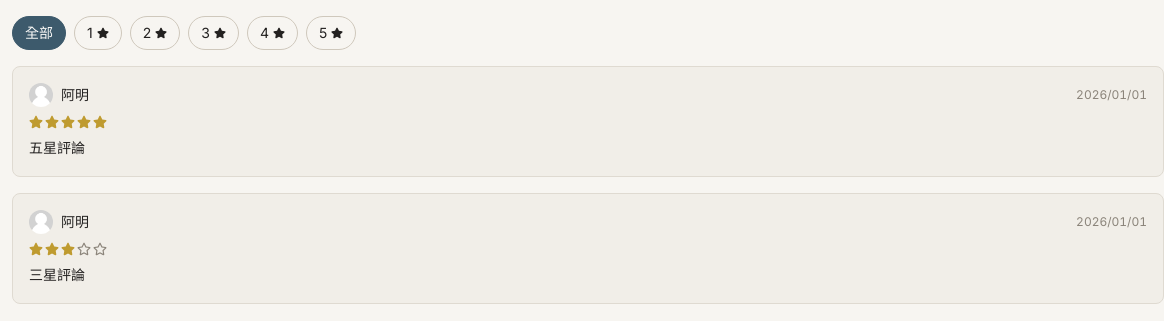
it: CommentList 星等篩選 › 點「全部」回到未篩選狀態
Click the button "5" at (331,33), box x1=306 y1=16 x2=356 y2=50
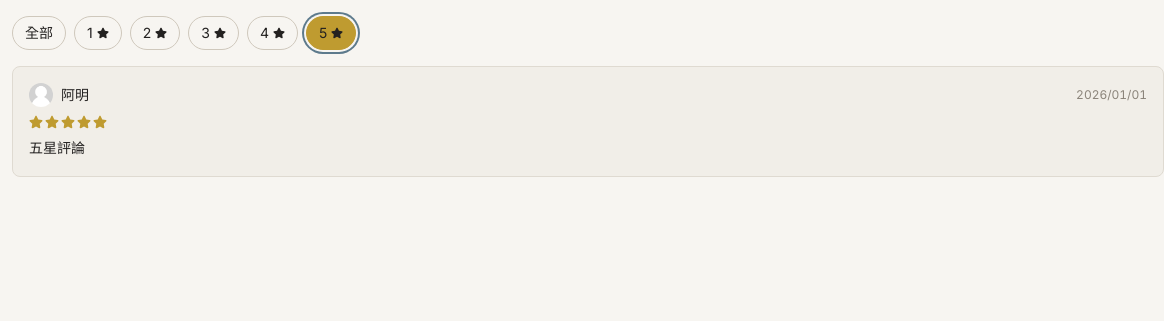
Click the button "全部" at (39,33), box x1=12 y1=16 x2=66 y2=50
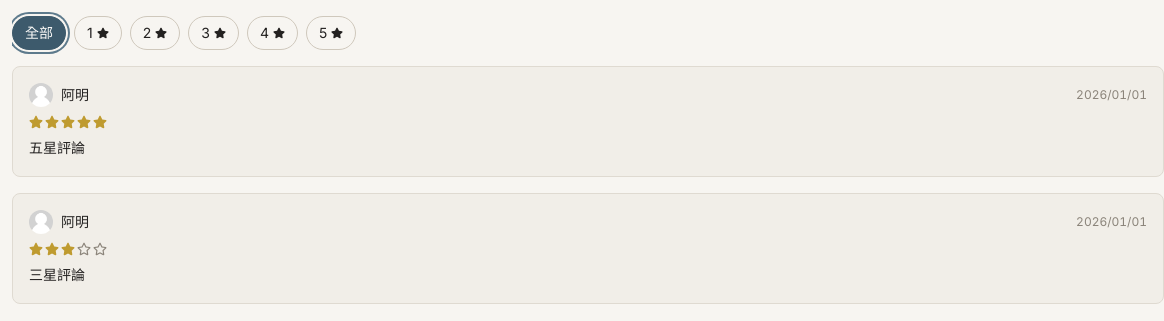
Check: the text "三星評論" is shown, box x1=29 y1=266 x2=85 y2=283
